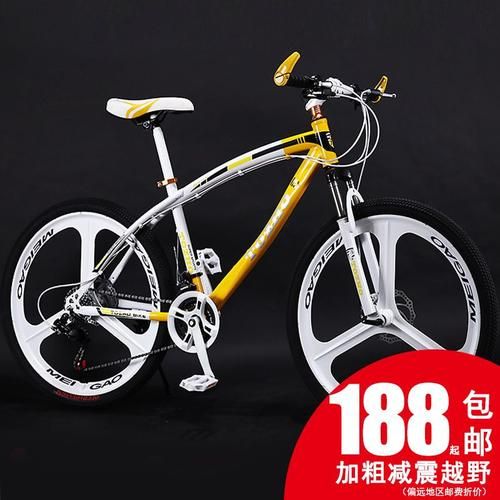单车: (13, 60, 500, 427)
